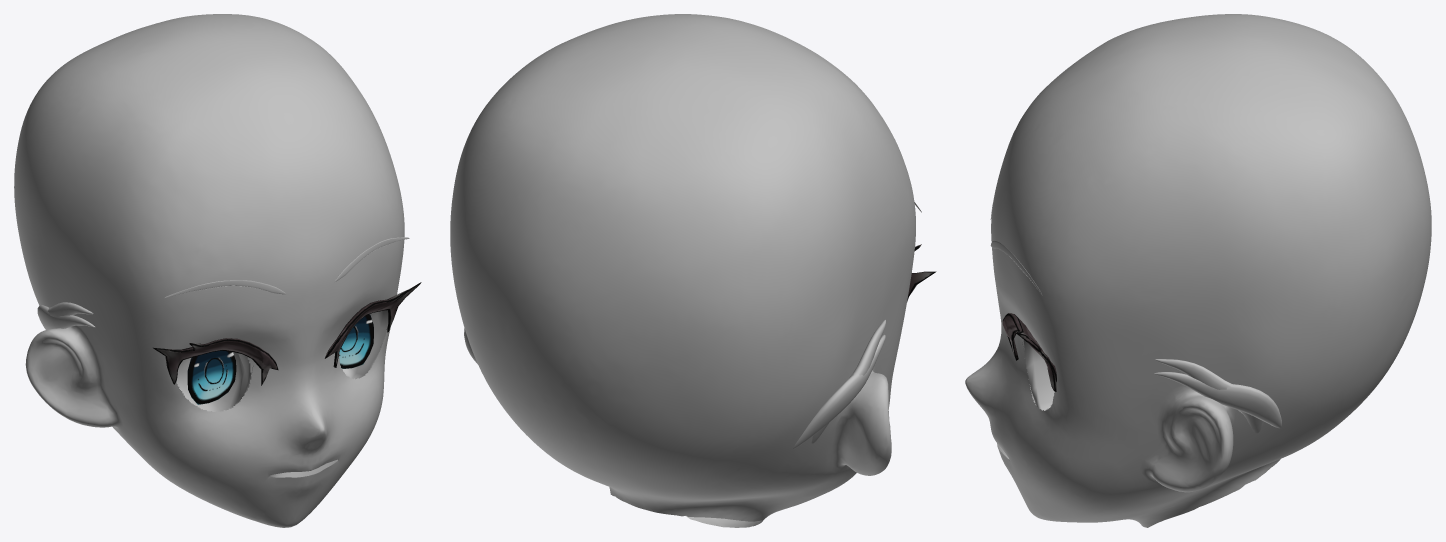
The model's file is male_hair_bald 2.glb.
The picture shows the model from 3 angles, left to right: view 1: azimuth 30°, elevation 25°; view 2: azimuth 150°, elevation 25°; view 3: azimuth 270°, elevation 25°; orthographic projection. The views are drawn at different scales.
Visible parts, largest first — view 1: face_0, hair_30, hair_28, hair_31, hair_29, hair_15; view 2: face_0, hair_15, hair_16; view 3: face_0, hair_15, hair_31, hair_16, hair_28.
Boxes of the visible parts, x1=… form: face_0: x1=14, y1=14, x2=404, y2=527; hair_30: x1=187, y1=314, x2=373, y2=404; hair_28: x1=153, y1=282, x2=421, y2=385; hair_31: x1=176, y1=310, x2=388, y2=411; hair_29: x1=164, y1=237, x2=409, y2=298; hair_15: x1=37, y1=305, x2=94, y2=329; face_0: x1=450, y1=14, x2=915, y2=527; hair_15: x1=793, y1=334, x2=885, y2=449; hair_16: x1=811, y1=320, x2=885, y2=443; face_0: x1=965, y1=14, x2=1431, y2=527; hair_15: x1=1153, y1=372, x2=1281, y2=428; hair_31: x1=1022, y1=340, x2=1054, y2=410; hair_16: x1=1155, y1=359, x2=1263, y2=433; hair_28: x1=1002, y1=313, x2=1056, y2=391.
Size of the model in its own units: 0.2693 by 0.3111 by 0.2755.
7 materials, 2 textured.
